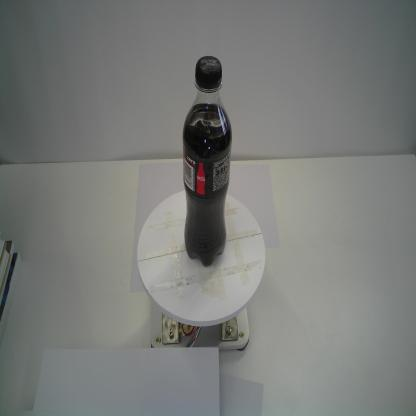Drink: (182, 53, 233, 268)
